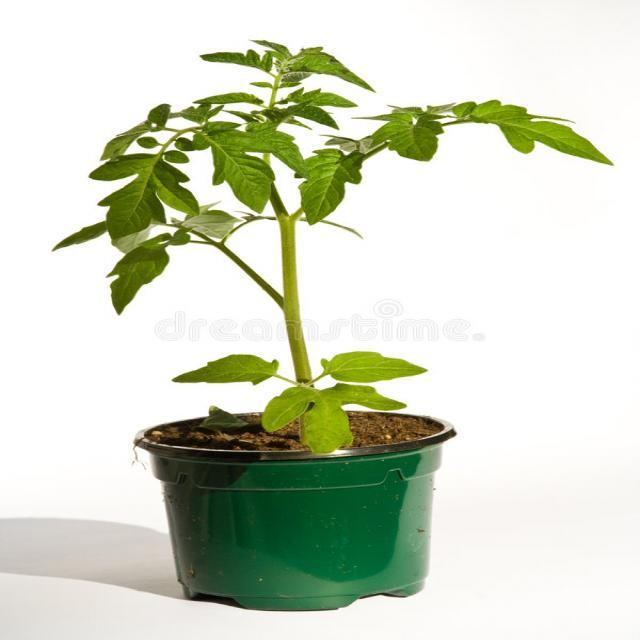tomato: (51, 40, 611, 454)
